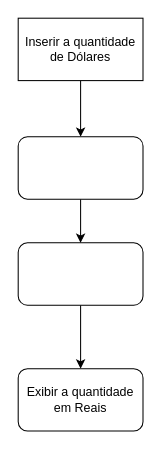
Some shapes in this 161 by 449 pixel diagram are drawn without their labels. Here are the shapes that lost their labels. From the top down, the centre of each, then its label:
(x=80, y=167): Inserir valor da taxa de câmbio atualizada do Dólar
(x=80, y=273): Converter a quantidade de dólares em Reais
